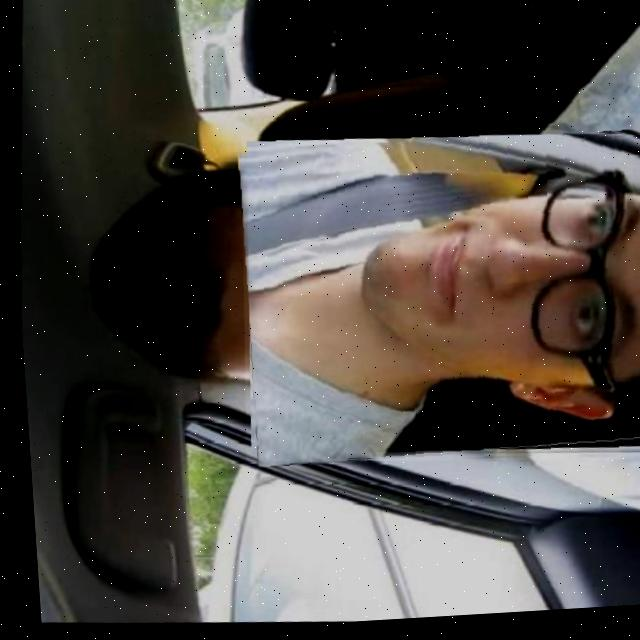seatbelt: (222, 120, 640, 486)
